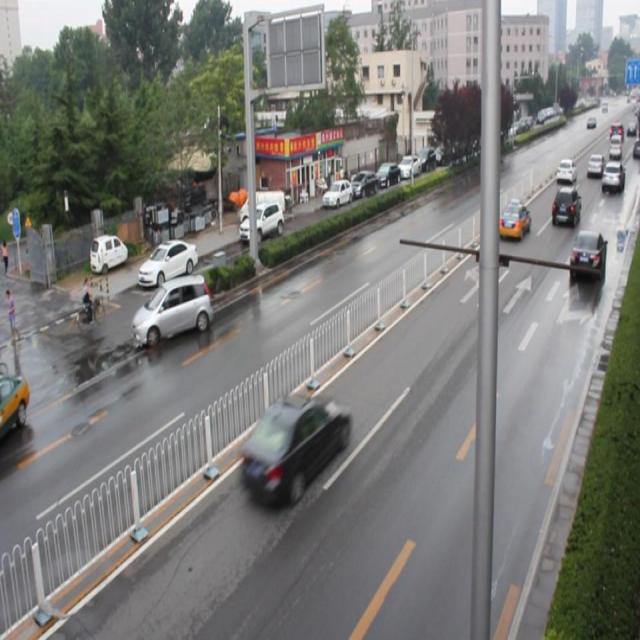car: (241, 390, 351, 508), (133, 275, 212, 348), (568, 230, 605, 281), (497, 198, 529, 244), (550, 185, 580, 230)
